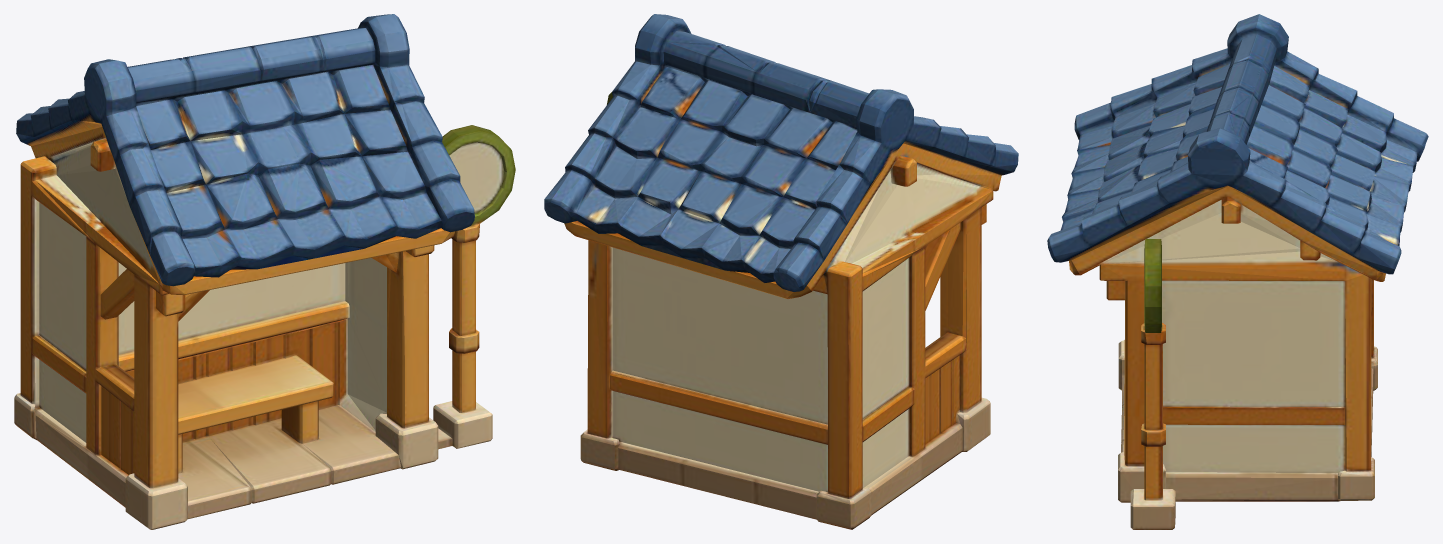
Rendered from busstop-7kts6ddk.glb.
3 renders of one model, left to right at view 1: azimuth 30°, elevation 25°; view 2: azimuth 150°, elevation 25°; view 3: azimuth 270°, elevation 25°, orthographic. The views are drawn at different scales.
Visible parts, largest first — view 1: tripo_node_3fbd43f3-1faa-41ef-9069-b109a5c6d220; view 2: tripo_node_3fbd43f3-1faa-41ef-9069-b109a5c6d220; view 3: tripo_node_3fbd43f3-1faa-41ef-9069-b109a5c6d220.
Boxes of the visible parts, x1,y1,x2,y2 form: tripo_node_3fbd43f3-1faa-41ef-9069-b109a5c6d220: (14, 14, 515, 529); tripo_node_3fbd43f3-1faa-41ef-9069-b109a5c6d220: (544, 14, 1018, 529); tripo_node_3fbd43f3-1faa-41ef-9069-b109a5c6d220: (1047, 14, 1428, 529).
Size of the model in its own units: 0.9771 by 0.9771 by 0.9082.
Materials: 1 (1 with a texture image).
